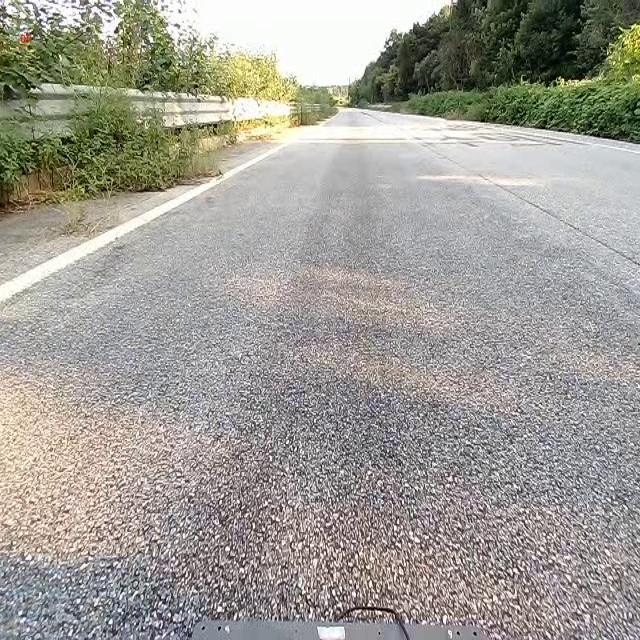Lane: (0, 132, 293, 306), (0, 144, 286, 304)
